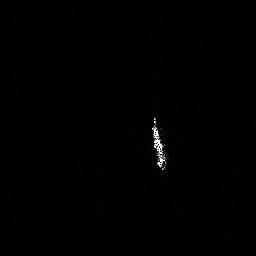ship: (149, 114, 170, 174)
